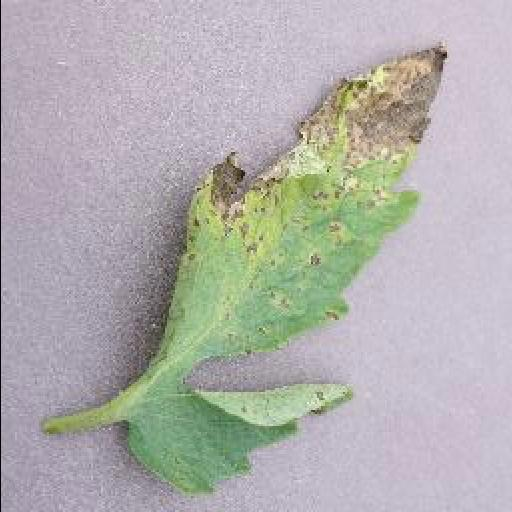disease_tomato: (120, 50, 450, 492)
